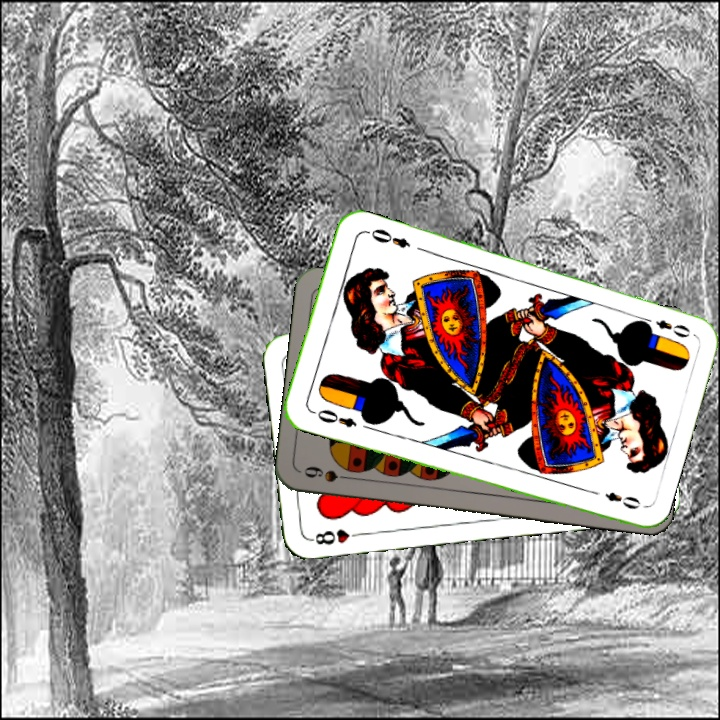EO: (637, 313, 693, 341), (307, 405, 359, 430)
H8: (307, 525, 366, 548)
S9: (300, 462, 358, 485)
